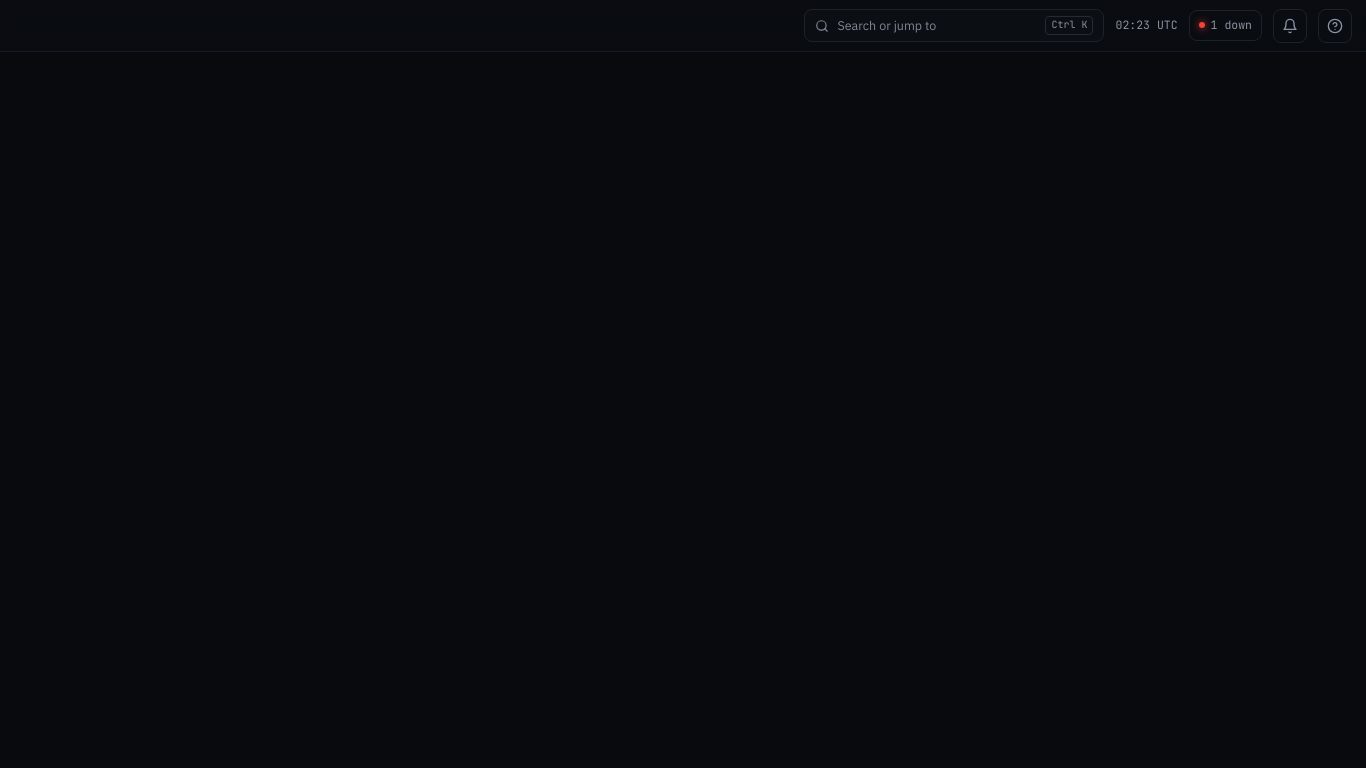
Test: Topbar health pill covers every upstream it claims › lists Security Onion as its own row in the dropdown
The image size is (1366, 768).
Step 1. Click the button titled "Upstream health" → coordinates (1225, 26), box [1189,10,1262,41]
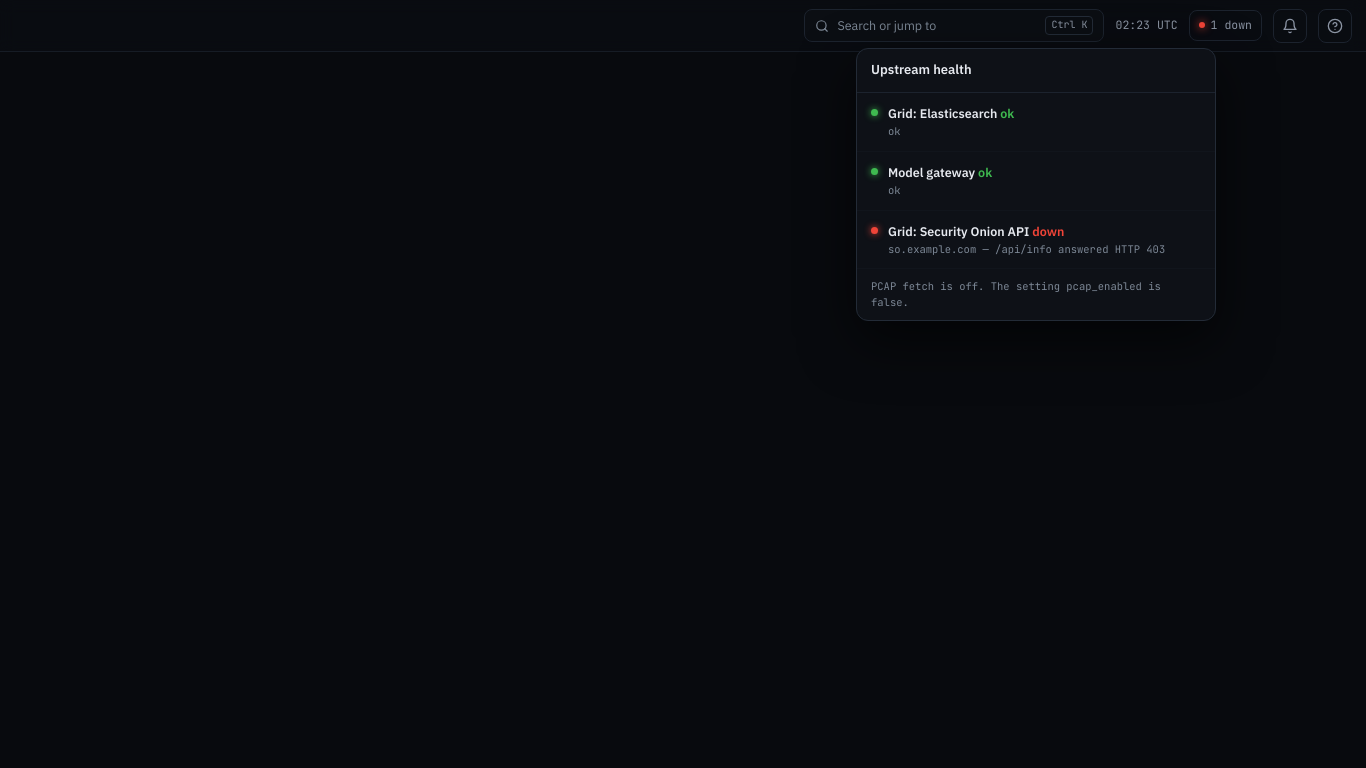
Expected: the text "Grid: Security Onion API" is shown, [888,223,1029,239]
Expected: the text "so.example.com — /api/info answered HTTP 403" is shown, [888,242,1201,258]
